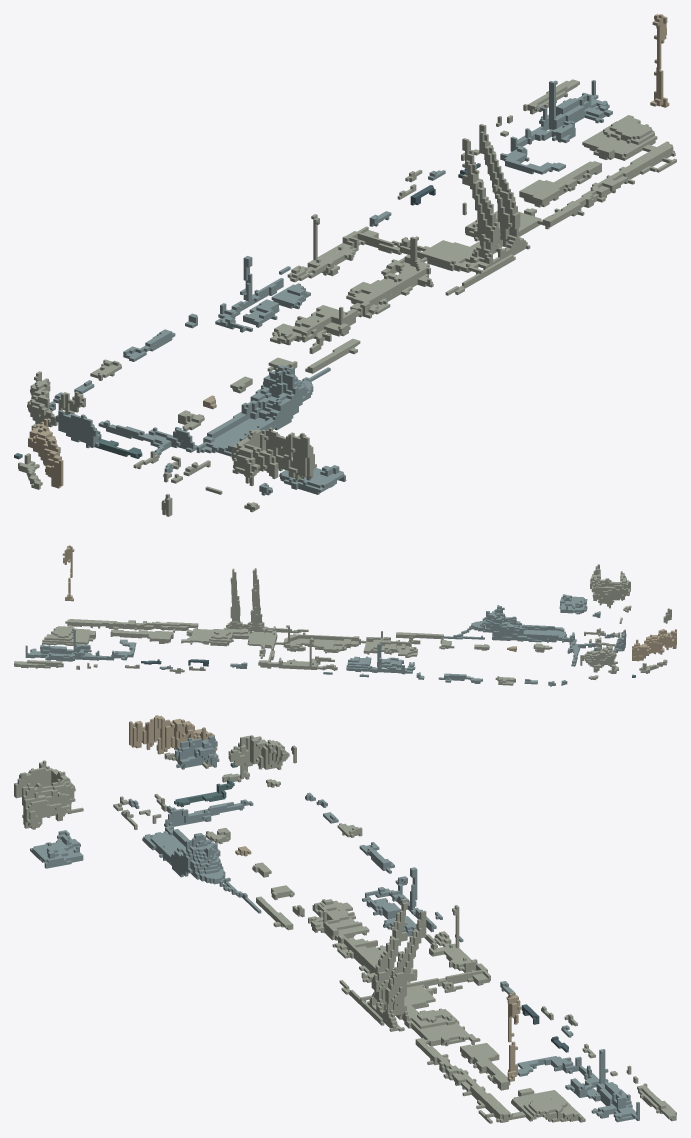
3 renders of one model, top to bottom at view 1: azimuth 30°, elevation 25°; view 2: azimuth 150°, elevation 25°; view 3: azimuth 270°, elevation 25°, orthographic. The views are drawn at different scales.
Parts seen in each view (by area): view 1: measured-industrial; view 2: measured-industrial; view 3: measured-industrial.
Boxes of the visible parts, bbox=[...] form: measured-industrial: bbox=[14, 14, 676, 516]; measured-industrial: bbox=[14, 545, 676, 686]; measured-industrial: bbox=[14, 715, 676, 1123].
Size of the model in its own units: 462 by 76.83 by 353.
